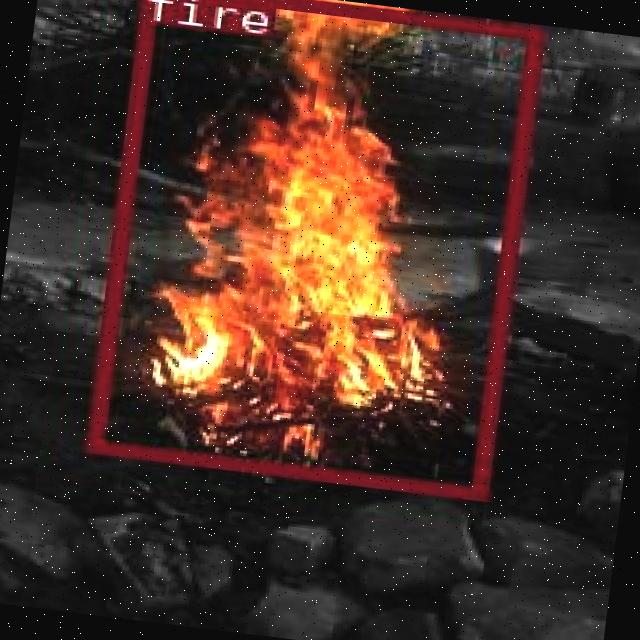fire: (84, 0, 539, 497)
